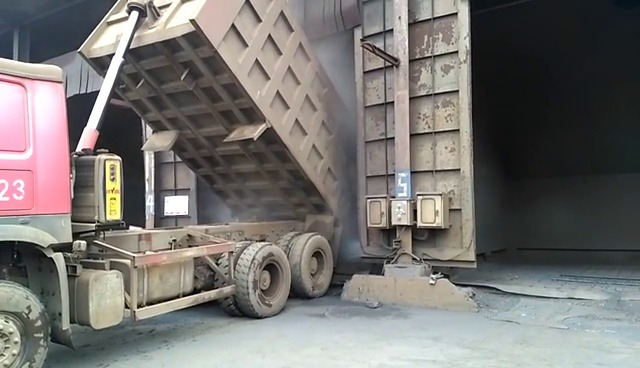dust: (284, 7, 366, 112), (206, 195, 240, 228), (344, 240, 359, 256)
truck: (0, 0, 358, 365)
